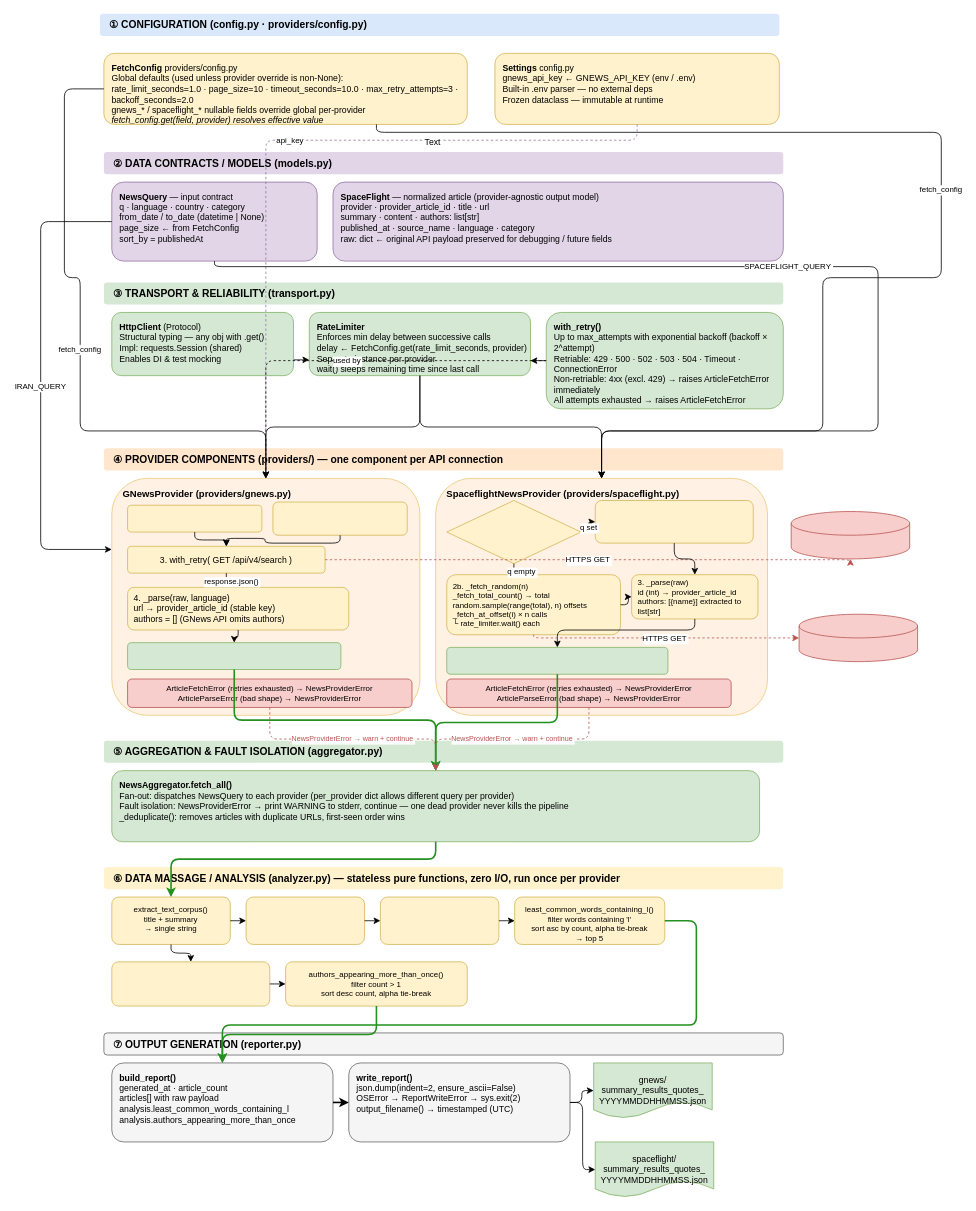
Image size: 976x1211. Some labels were removed from this diagram. Here are the shapes that lost their labels. From the top down, the centre of each, then its label:
the point at 194,518: 1. rate_limiter.wait()
the point at 339,518: 2. _build_params(query) token · max · lang · sortby · q
the point at 513,532: 1. fetch(query) query.q set? yes → search · no → random
the point at 673,521: 2a. _fetch_by_search() rate_limiter.wait() GET /articles/?search=q&limit=N
the point at 850,535: GNews API gnews.io/api/v4/search
the point at 234,656: → list[SpaceFlight] (provider='gnews')
the point at 858,637: Spaceflight News API spaceflightnewsapi.net/v4
the point at 557,660: → list[SpaceFlight] (provider='spaceflight')
the point at 305,920: tokenize() lowercase, strip non-alpha → list[str]
the point at 439,920: word_frequency() Counter(tokens) → word → count
the point at 190,983: count_authors() Counter(all authors) → author → article count
